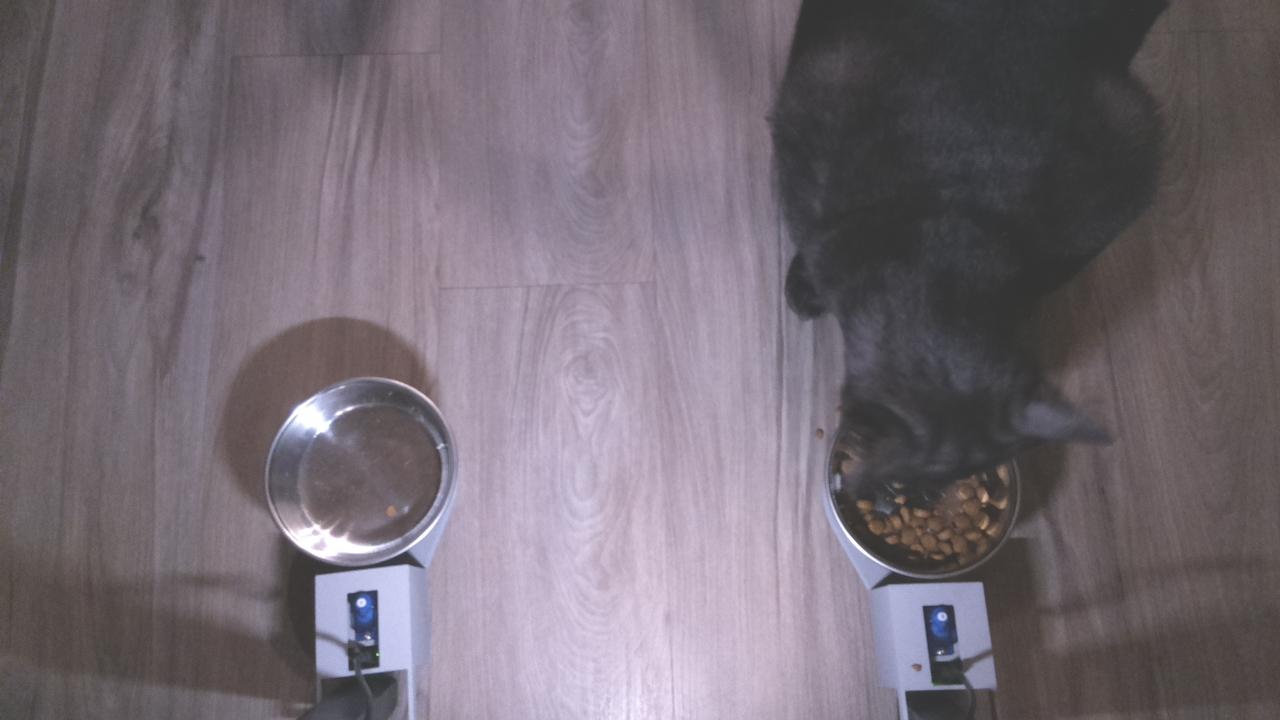open_bowl: (259, 372, 458, 571)
saki_eating: (808, 314, 1123, 593)
